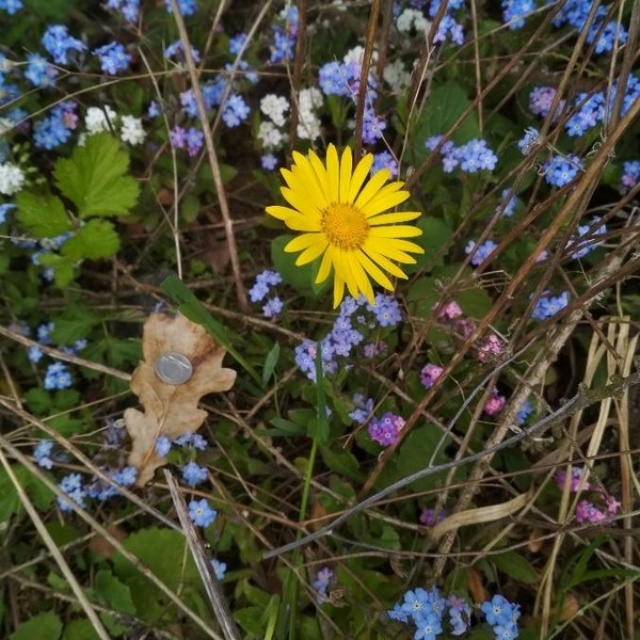obstacle: (300, 75, 572, 462)
